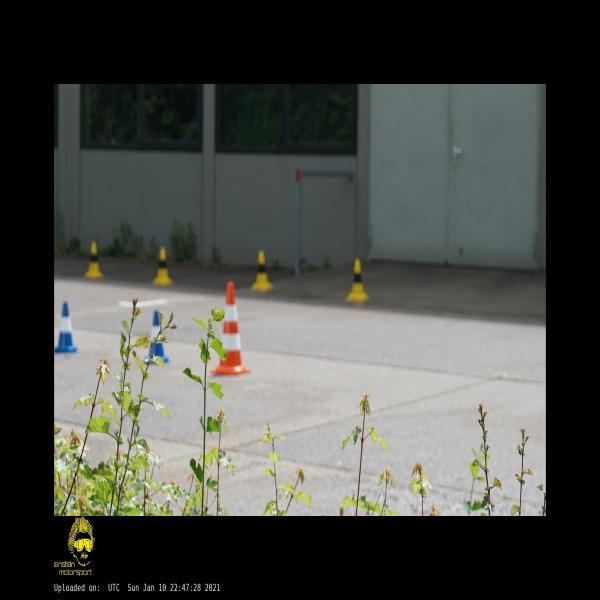blue_cone: (144, 310, 168, 364), (54, 301, 78, 352)
large_orange_cone: (210, 281, 250, 375)
yellow_cone: (346, 258, 368, 302), (251, 250, 273, 290), (153, 247, 173, 285), (84, 242, 103, 278)
